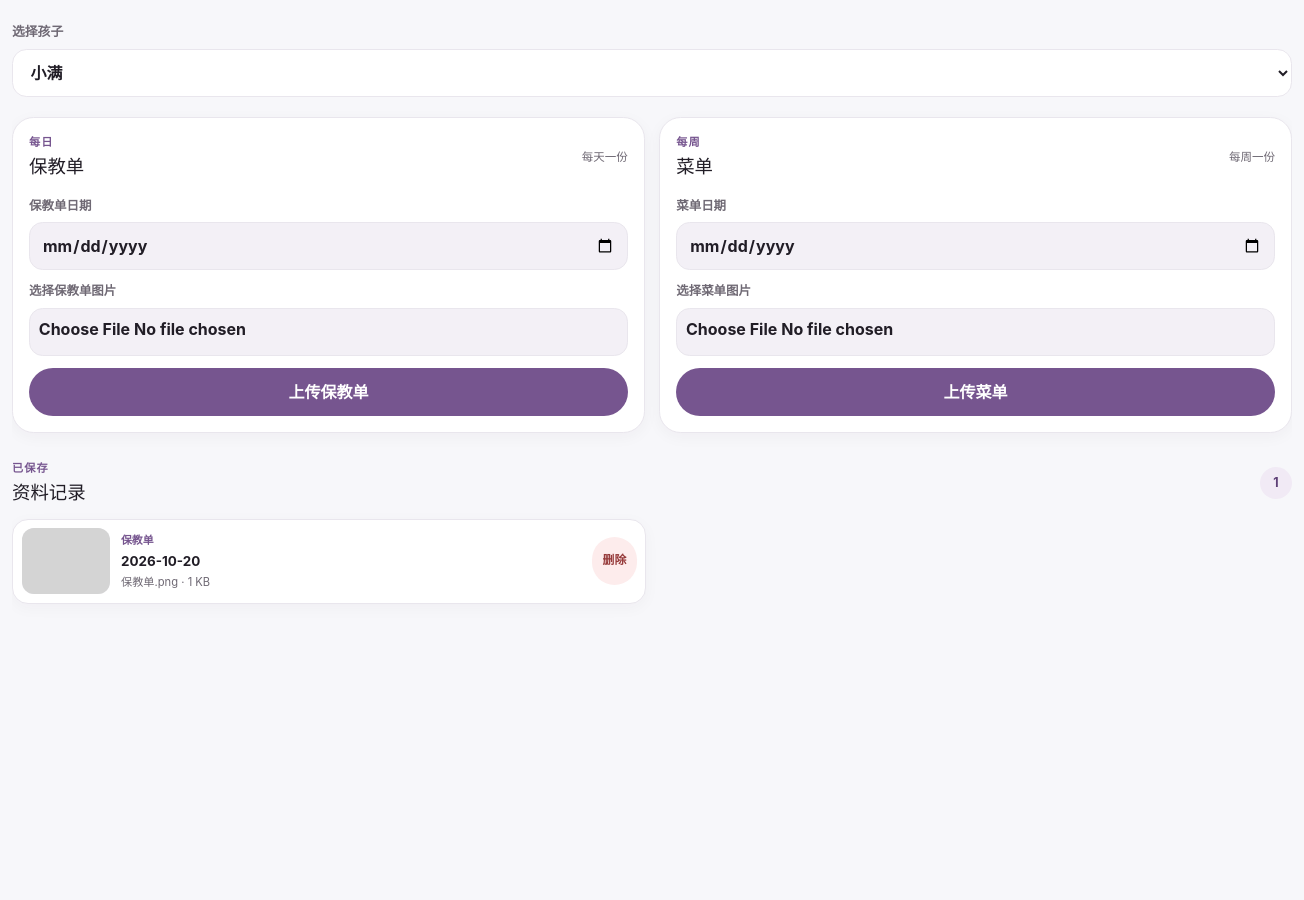
kindergarten document manager › warns before replacing an existing period
This screenshot has width=1304, height=900.
Check: the text "保教单.png · 1 KB" is shown, box x1=121 y1=575 x2=210 y2=589
Type "2026-10-20" into the date field labelled "保教单日期" at {"x": 328, "y": 246}, box x1=29 y1=222 x2=628 y2=270
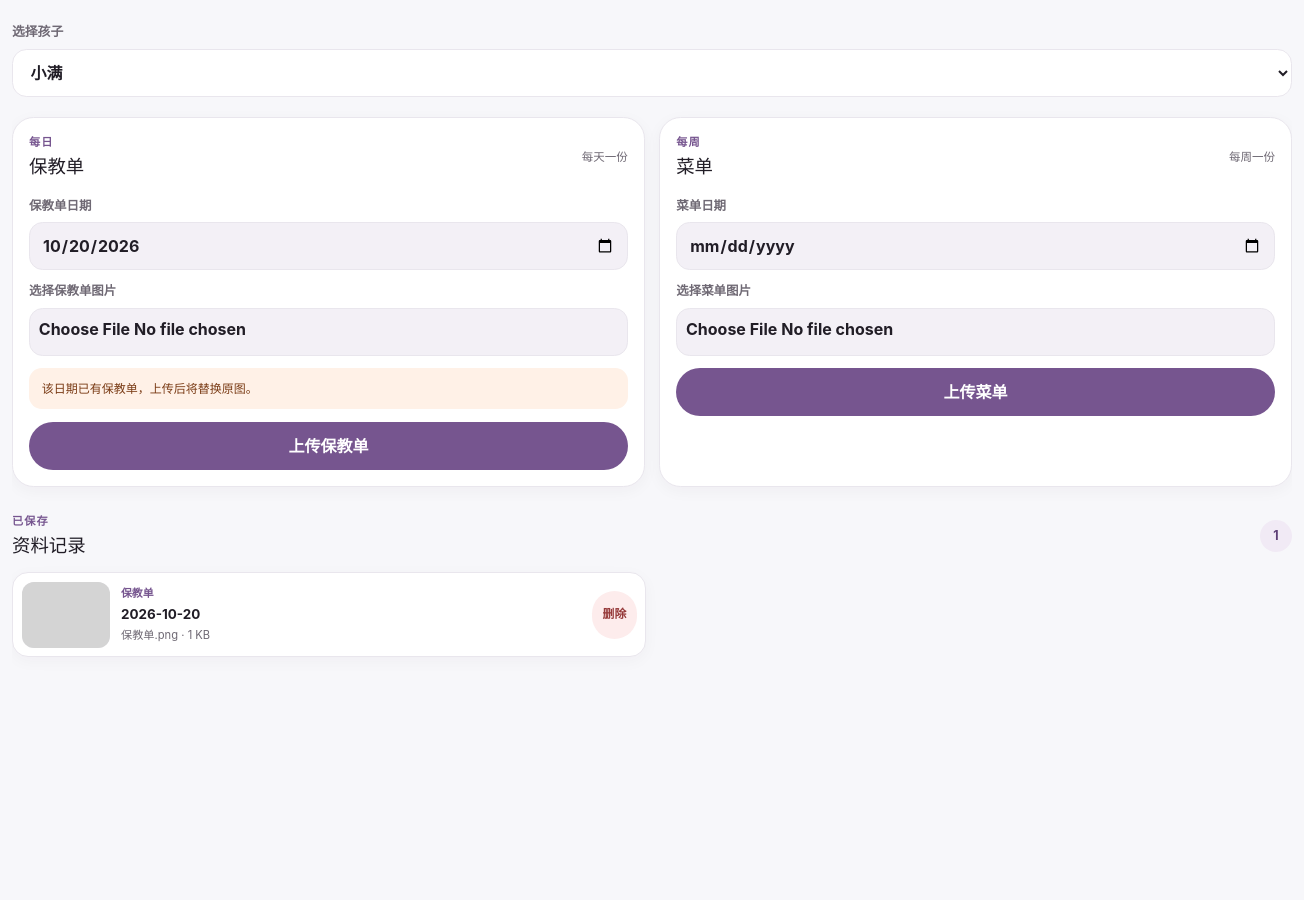
Check: the text "该日期已有保教单，上传后将替换原图。" is shown, box x1=29 y1=368 x2=628 y2=409
